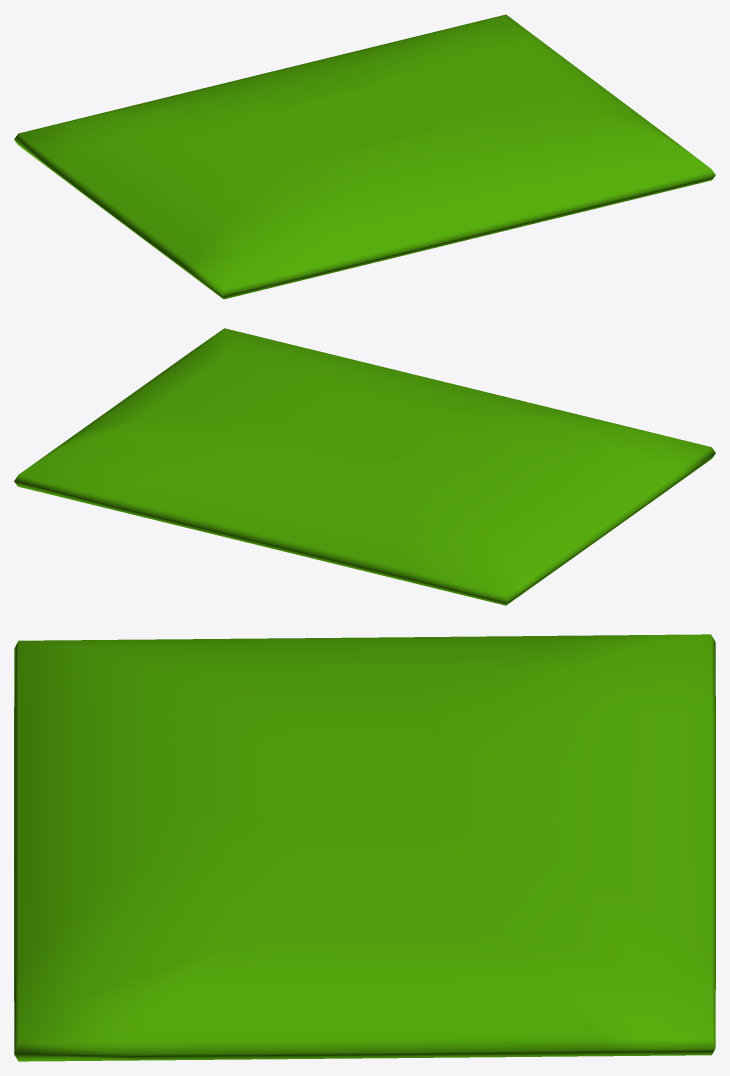
Rendered from Blanket.fbx.
3 renders of one model, top to bottom at view 1: azimuth 30°, elevation 25°; view 2: azimuth 150°, elevation 25°; view 3: azimuth 270°, elevation 25°, orthographic. The views are drawn at different scales.
Parts seen in each view (by area): view 1: Pillow1; view 2: Pillow1; view 3: Pillow1.
Part boxes in pixels (box(x1,y1,x2,y2)): Pillow1: box(14, 14, 715, 299); Pillow1: box(14, 328, 715, 605); Pillow1: box(14, 634, 715, 1061).
Size of the model in its own units: 153 by 14.94 by 111.
